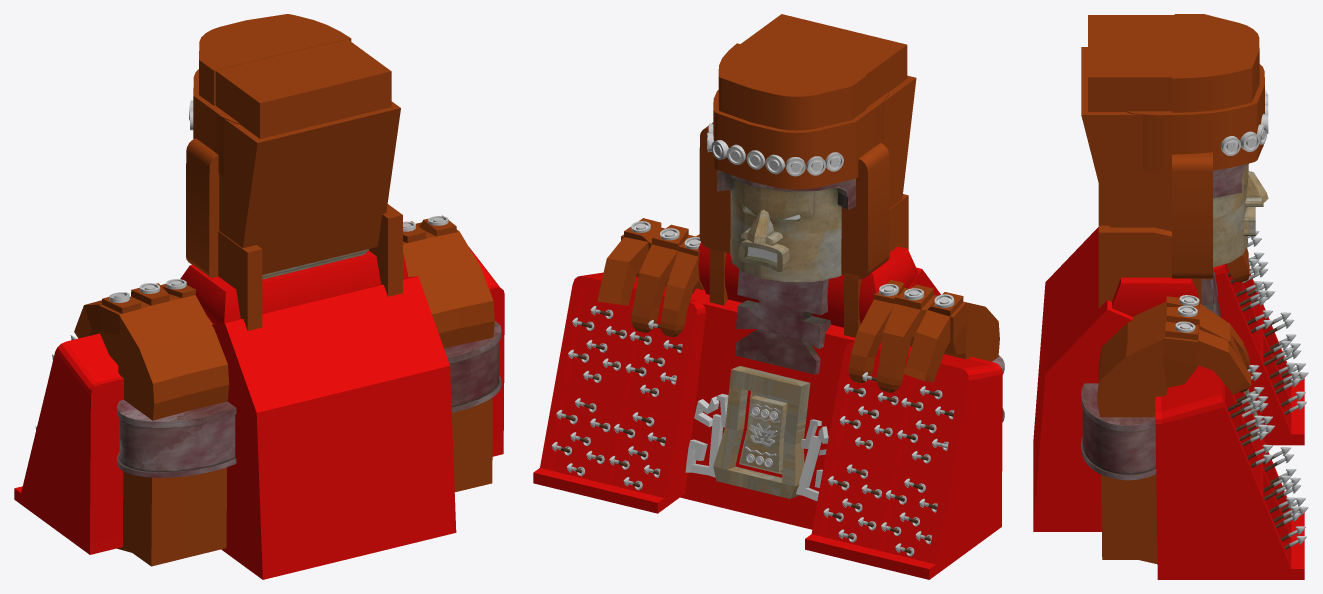
The model's file is AntiAerienneEvolution 1.fbx.
3 views of the same model, side by side, from view 1: azimuth 30°, elevation 25°; view 2: azimuth 150°, elevation 25°; view 3: azimuth 270°, elevation 25° (orthographic). The views are drawn at different scales.
Visible parts, largest first — view 1: Cube.300, Cube.179, Cube.299, Cube.029, Cylinder.224, Cube.175, Cube.168, Cube.174, Cylinder.226, Cube.167, Cube.169, Cube.115; view 2: Cube.029, Cube.115, Cube.299, Cube.175, Cube.300, Cube.179, Cube.173, Cube.239, Cube.170, Cube.174, Cube.168, Cube.172 (+6 smaller); view 3: Cube.115, Cube.299, Cube.300, Cube.179, Cube.175, Cube.029, Cube.172, Cylinder.226, Cube.169, Cube.173, Cube.168, Cube.170 (+1 smaller).
Boxes of the visible parts, left/top/right/bottom form: Cube.300: left=212, top=276, right=456, bottom=579; Cube.179: left=215, top=39, right=400, bottom=274; Cube.299: left=74, top=215, right=494, bottom=566; Cube.029: left=14, top=333, right=123, bottom=554; Cylinder.224: left=117, top=399, right=236, bottom=477; Cube.175: left=193, top=14, right=351, bottom=176; Cube.168: left=180, top=250, right=408, bottom=324; Cube.174: left=186, top=138, right=219, bottom=277; Cylinder.226: left=444, top=321, right=501, bottom=412; Cube.167: left=218, top=231, right=262, bottom=330; Cube.169: left=369, top=204, right=402, bottom=296; Cube.115: left=469, top=247, right=504, bottom=456; Cube.029: left=805, top=342, right=1002, bottom=579; Cube.115: left=533, top=272, right=705, bottom=513; Cube.299: left=597, top=218, right=999, bottom=392; Cube.175: left=713, top=43, right=888, bottom=189; Cube.300: left=680, top=267, right=940, bottom=529; Cube.179: left=740, top=14, right=916, bottom=207; Cube.173: left=717, top=170, right=855, bottom=282; Cube.239: left=713, top=366, right=810, bottom=498; Cube.170: left=735, top=269, right=830, bottom=374; Cube.174: left=841, top=143, right=889, bottom=278; Cube.168: left=698, top=242, right=918, bottom=327; Cube.172: left=699, top=122, right=730, bottom=253; Cube.115: left=1155, top=365, right=1304, bottom=579; Cube.299: left=1097, top=247, right=1251, bottom=563; Cube.300: left=1033, top=227, right=1132, bottom=531; Cube.179: left=1081, top=15, right=1175, bottom=231; Cube.175: left=1126, top=14, right=1264, bottom=172; Cube.029: left=1213, top=264, right=1304, bottom=445; Cube.172: left=1172, top=152, right=1212, bottom=279; Cylinder.226: left=1081, top=383, right=1156, bottom=480; Cube.169: left=1098, top=225, right=1201, bottom=308; Cube.173: left=1213, top=146, right=1263, bottom=267; Cube.168: left=1112, top=277, right=1198, bottom=316; Cube.170: left=1201, top=268, right=1221, bottom=317.
Bounding box in the file's own units: 62.65 × 65.71 × 37.12.
